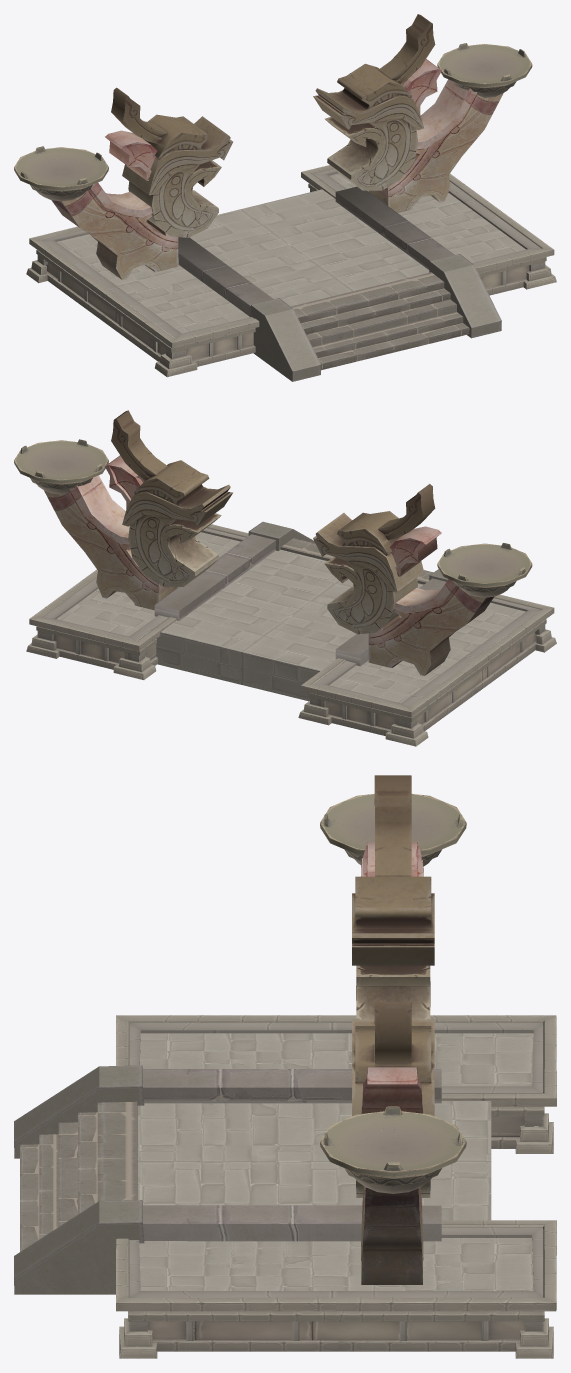
The model's file is mod_zlc_jianzhu005_xy.FBX.
3 renders of one model, top to bottom at view 1: azimuth 30°, elevation 25°; view 2: azimuth 150°, elevation 25°; view 3: azimuth 270°, elevation 25°, orthographic. The views are drawn at different scales.
Visible parts, largest first — view 1: mod_zlc_jianzhu005_xy; view 2: mod_zlc_jianzhu005_xy; view 3: mod_zlc_jianzhu005_xy.
Part boxes in pixels (box(x1,y1,x2,y2)): mod_zlc_jianzhu005_xy: box(14, 14, 556, 381); mod_zlc_jianzhu005_xy: box(14, 410, 556, 746); mod_zlc_jianzhu005_xy: box(14, 775, 556, 1358).
Size of the model in its own units: 2242 by 897 by 1351.
Materials: 4 (4 with a texture image).
